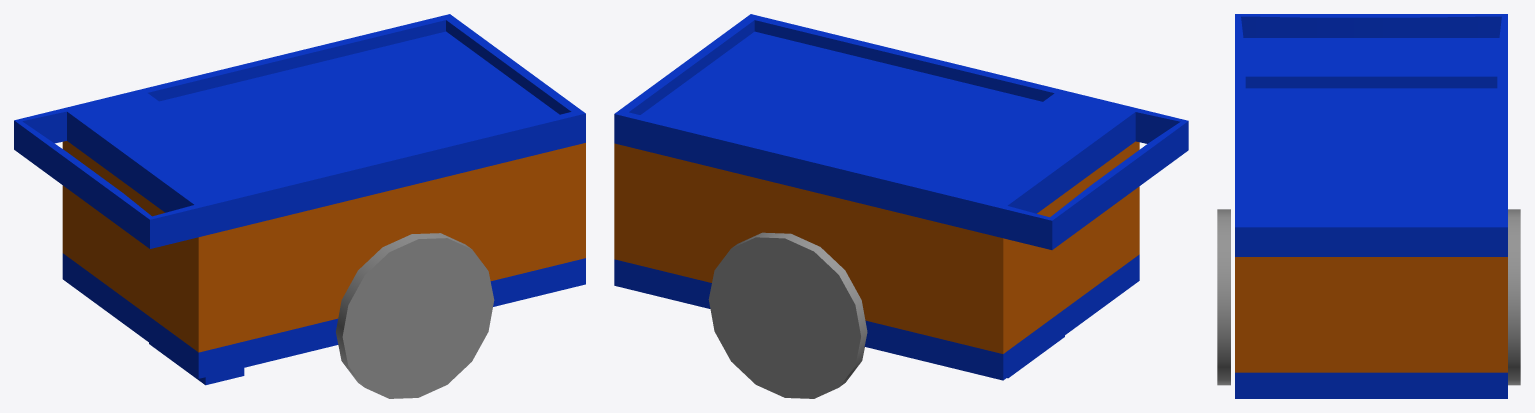
The model's file is MOD_Glacier.FBX.
3 renders of one model, left to right at view 1: azimuth 30°, elevation 25°; view 2: azimuth 150°, elevation 25°; view 3: azimuth 270°, elevation 25°, orthographic.
Parts seen in each view (by area): view 1: Box001; view 2: Box001; view 3: Box001.
Boxes of the visible parts, x1,y1,x2,y2 form: Box001: [14, 14, 585, 398]; Box001: [614, 14, 1188, 398]; Box001: [1217, 14, 1520, 398].
Size of the model in its own units: 48.12 by 24.79 by 28.87.
